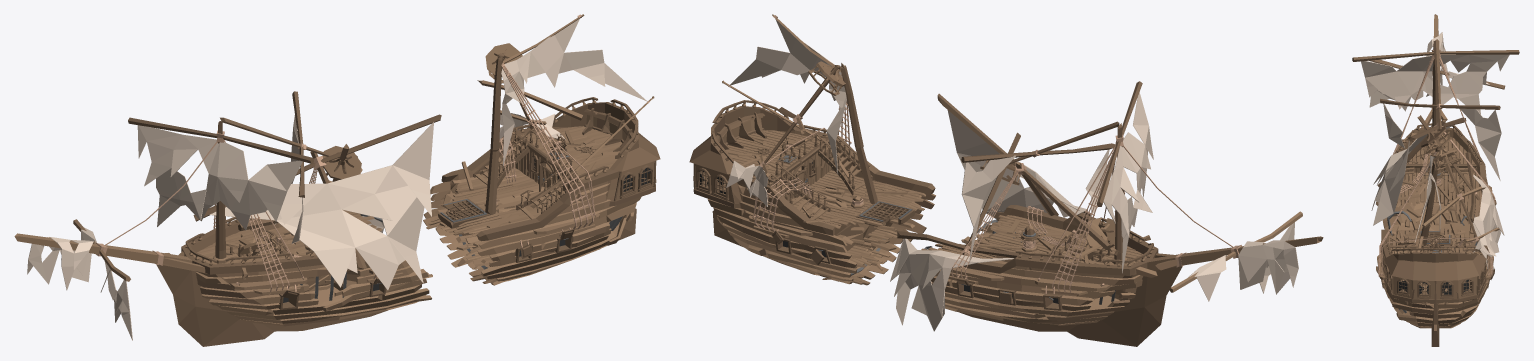
The model's file is SunkenShipFront.fbx.
3 views of the same model, side by side, from view 1: azimuth 30°, elevation 25°; view 2: azimuth 150°, elevation 25°; view 3: azimuth 270°, elevation 25° (orthographic). The views are drawn at different scales.
Parts seen in each view (by area): view 1: SunkenShipFront, SunkenShipBack; view 2: SunkenShipFront, SunkenShipBack; view 3: SunkenShipFront, SunkenShipBack.
Part boxes in pixels (<box>): SunkenShipFront: <box>14,91,441,346</box>; SunkenShipBack: <box>423,14,660,285</box>; SunkenShipFront: <box>890,81,1323,346</box>; SunkenShipBack: <box>689,14,935,285</box>; SunkenShipFront: <box>1352,14,1519,269</box>; SunkenShipBack: <box>1376,147,1499,346</box>.
Bounding box in the file's own units: 103 × 39.4 × 31.84.
